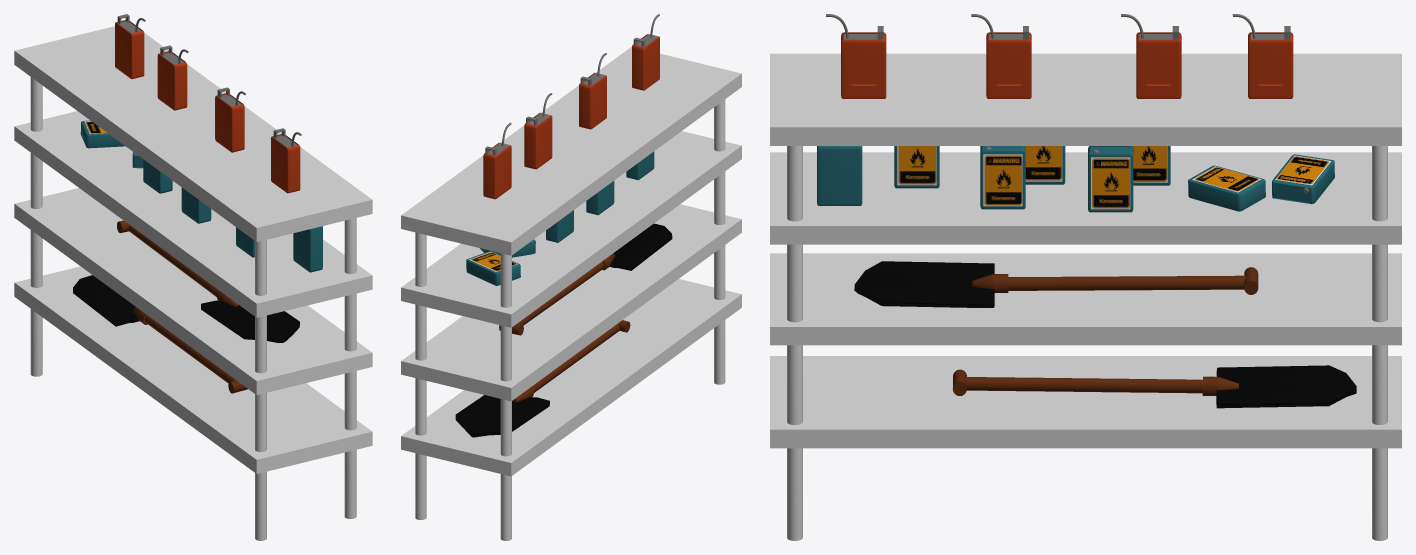
File: storeroom rack 2 .fbx
The picture shows the model from 3 angles, left to right: view 1: azimuth 30°, elevation 25°; view 2: azimuth 150°, elevation 25°; view 3: azimuth 270°, elevation 25°; orthographic projection. The views are drawn at different scales.
Visible parts, largest first — view 1: Plane.003, Plane, Plane.001, Plane.002, Cylinder, Cylinder.002, Cylinder.001, Cube.017, Cube.018, Cube.013, Cube.001, Cube.012 (+7 smaller); view 2: Plane.003, Plane.001, Plane, Plane.002, Cylinder.002, Cylinder.003, Cylinder.001, Cube.018, Cube.017, Cube.013, Cube.016, Cube.012 (+7 smaller); view 3: Plane.003, Plane, Plane.001, Plane.002, Cube.017, Cube.018, Cylinder.003, Cylinder, Cylinder.013, Cylinder.016, Cube.005, Cube.001 (+10 smaller).
Boxes of the visible parts, x1,y1,x2,y2 form: Plane.003: [14, 26, 372, 241]; Plane: [14, 266, 372, 473]; Plane.001: [14, 188, 372, 394]; Plane.002: [14, 111, 372, 317]; Cylinder: [344, 218, 356, 518]; Cylinder.002: [30, 77, 42, 376]; Cylinder.001: [255, 239, 266, 540]; Cube.017: [201, 300, 299, 342]; Cube.018: [73, 275, 139, 326]; Cube.013: [157, 51, 187, 110]; Cube.001: [271, 134, 300, 193]; Cube.012: [215, 93, 244, 152]; Plane.003: [401, 46, 741, 255]; Plane.001: [401, 204, 741, 401]; Plane: [401, 279, 741, 476]; Plane.002: [401, 131, 741, 327]; Cylinder.002: [500, 253, 511, 540]; Cylinder.003: [415, 232, 426, 519]; Cylinder.001: [714, 99, 725, 384]; Cube.018: [455, 395, 549, 437]; Cube.017: [610, 223, 672, 270]; Cube.013: [524, 112, 552, 169]; Cube.016: [483, 142, 511, 199]; Cube.012: [579, 72, 606, 129]; Plane.003: [770, 53, 1401, 145]; Plane: [770, 356, 1401, 448]; Plane.001: [770, 253, 1401, 345]; Plane.002: [770, 152, 1401, 244]; Cube.017: [854, 261, 994, 307]; Cube.018: [1216, 365, 1356, 408]; Cylinder.003: [1372, 146, 1387, 540]; Cylinder: [787, 146, 802, 540]; Cylinder.013: [972, 274, 1246, 292]; Cylinder.016: [964, 376, 1238, 395]; Cube.005: [1088, 146, 1133, 212]; Cube.001: [841, 32, 886, 98].
Bounding box in the file's own units: 73.49 × 232 × 266.
36 materials, 8 textured.
